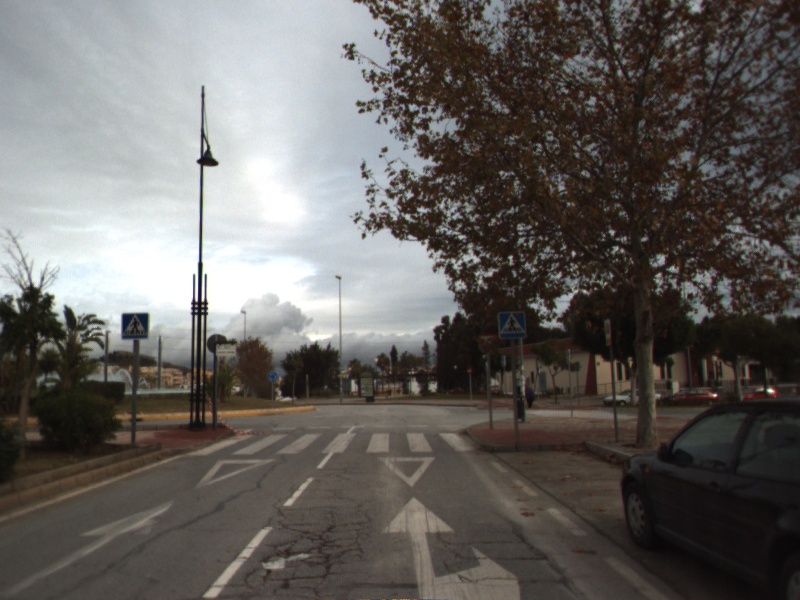STRAIGHT: (1, 497, 177, 600)
STRAIGHT_RIGHT: (378, 494, 524, 600)
